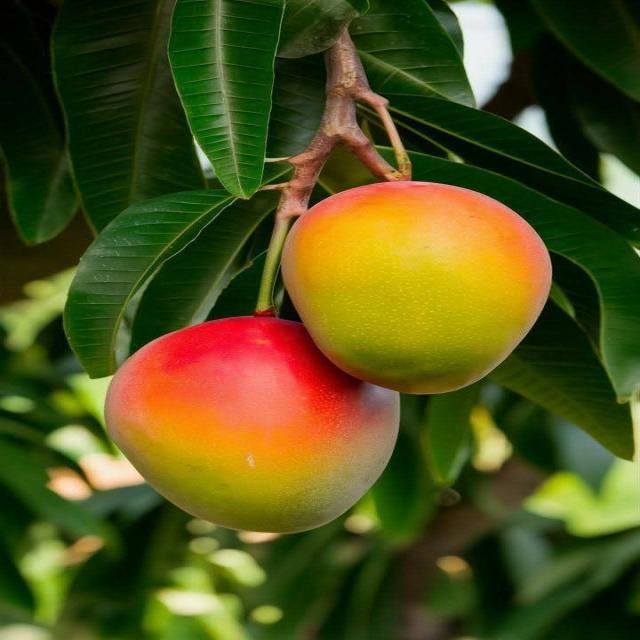mango: (106, 317, 399, 531), (283, 182, 551, 393)
